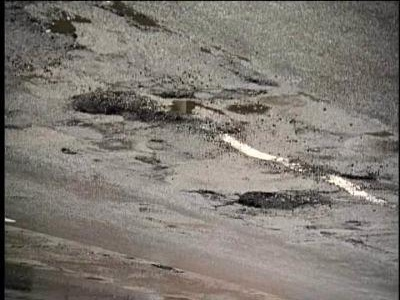pothole: (70, 86, 248, 140), (234, 186, 333, 211), (91, 0, 164, 33), (27, 4, 92, 40)
